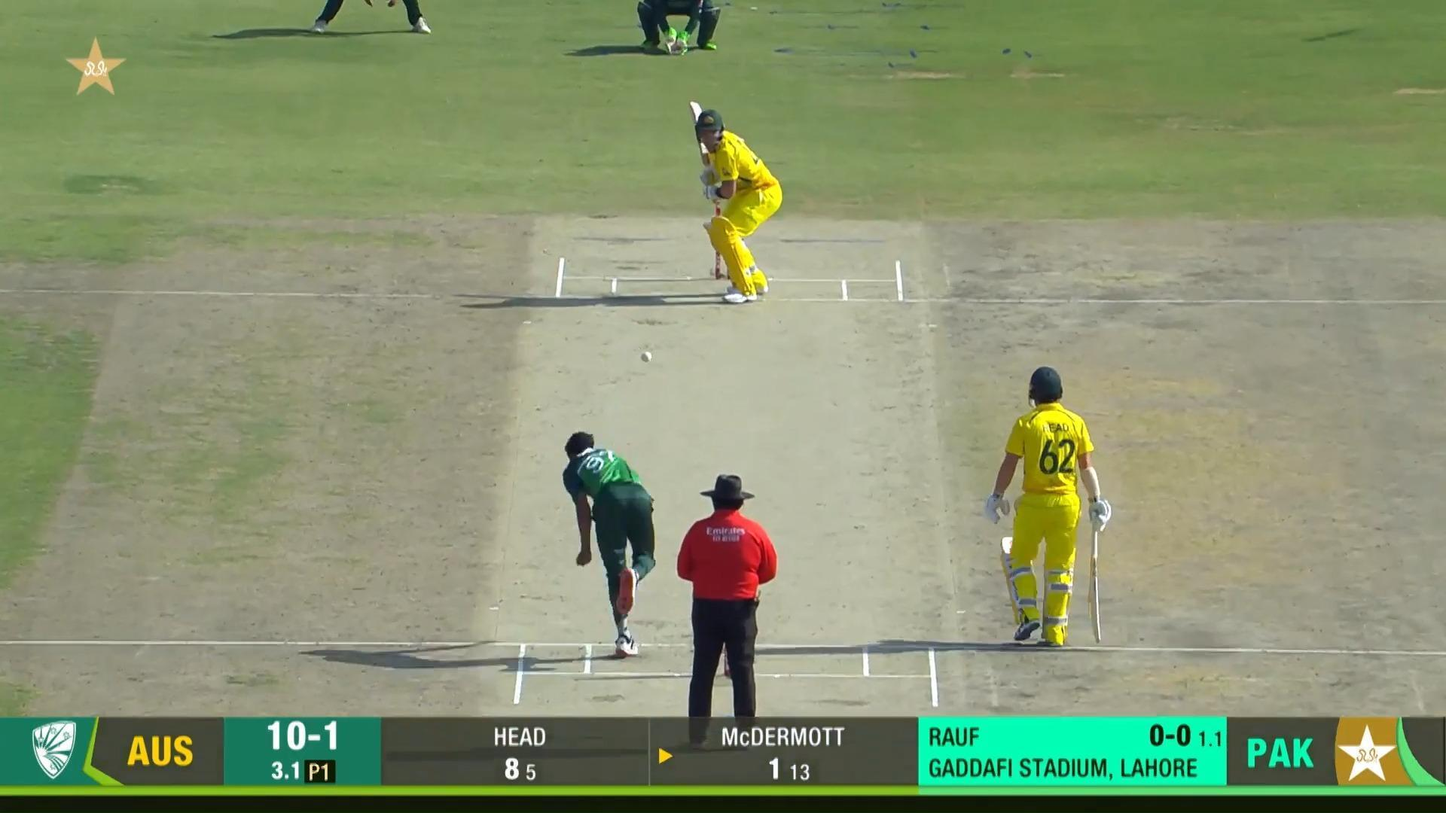BM 1: (689, 100, 783, 303)
BO: (560, 429, 660, 660)
